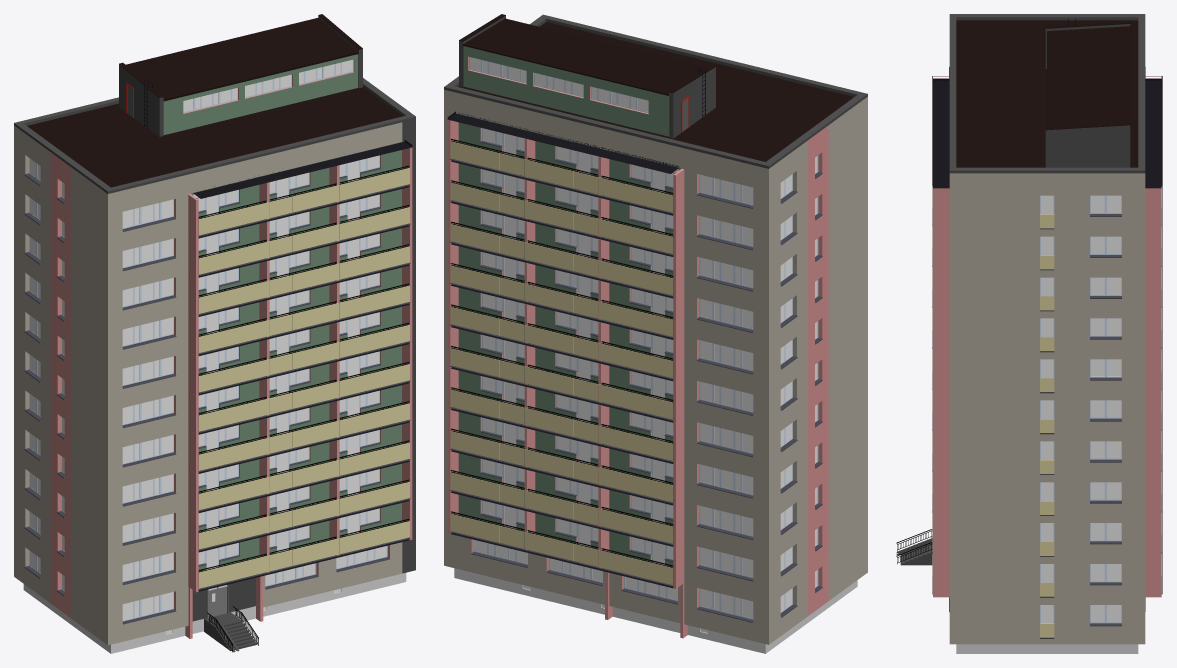
File: building.glb
The picture shows the model from 3 angles, left to right: view 1: azimuth 30°, elevation 25°; view 2: azimuth 150°, elevation 25°; view 3: azimuth 270°, elevation 25°; orthographic projection. The views are drawn at different scales.
Parts seen in each view (by area): view 1: o_concrete_01, o_transparent_balcony, o_glass, o_roof, o_concrete_04, o_concrete_03, o_sides, o_frames, o_concrete_02, o_balcony_barriers, o_balcony_base, o_base (+2 smaller); view 2: o_concrete_01, o_transparent_balcony, o_glass, o_concrete_04, o_concrete_03, o_roof, o_sides, o_frames, o_concrete_02, o_balcony_base, o_balcony_barriers, o_base; view 3: o_concrete_01, o_roof, o_concrete_04, o_concrete_02, o_glass, o_balcony_base, o_transparent_balcony, o_sides, o_frames, o_base, o_balcony_barriers.
Boxes of the visible parts, bbox=[...] form: o_concrete_01: bbox=[14, 122, 402, 645]; o_transparent_balcony: bbox=[198, 167, 409, 588]; o_glass: bbox=[29, 60, 386, 633]; o_roof: bbox=[27, 14, 412, 198]; o_concrete_04: bbox=[50, 59, 412, 638]; o_concrete_03: bbox=[160, 54, 401, 571]; o_sides: bbox=[24, 167, 410, 624]; o_frames: bbox=[29, 59, 387, 621]; o_concrete_02: bbox=[14, 16, 415, 652]; o_balcony_barriers: bbox=[198, 165, 409, 652]; o_balcony_base: bbox=[193, 140, 412, 591]; o_base: bbox=[23, 573, 406, 653]; o_concrete_01: bbox=[444, 89, 867, 644]; o_transparent_balcony: bbox=[450, 141, 672, 584]; o_glass: bbox=[470, 57, 817, 632]; o_concrete_04: bbox=[448, 56, 828, 638]; o_concrete_03: bbox=[458, 46, 681, 577]; o_roof: bbox=[447, 14, 853, 173]; o_sides: bbox=[449, 141, 822, 622]; o_frames: bbox=[469, 57, 818, 619]; o_concrete_02: bbox=[444, 14, 867, 168]; o_balcony_base: bbox=[447, 112, 679, 588]; o_balcony_barriers: bbox=[450, 139, 673, 583]; o_base: bbox=[454, 568, 857, 653]; o_concrete_01: bbox=[949, 173, 1145, 644]; o_roof: bbox=[932, 20, 1162, 186]; o_concrete_04: bbox=[933, 78, 1161, 597]; o_concrete_02: bbox=[896, 14, 1145, 565]; o_glass: bbox=[1041, 195, 1120, 623]; o_balcony_base: bbox=[933, 78, 1161, 188]; o_transparent_balcony: bbox=[932, 186, 1161, 637]; o_sides: bbox=[932, 67, 1162, 638]; o_frames: bbox=[1040, 195, 1121, 623]; o_base: bbox=[956, 644, 1138, 653]; o_balcony_barriers: bbox=[896, 529, 932, 564].
Size of the model in its own units: 24.72 by 39 by 17.68.
